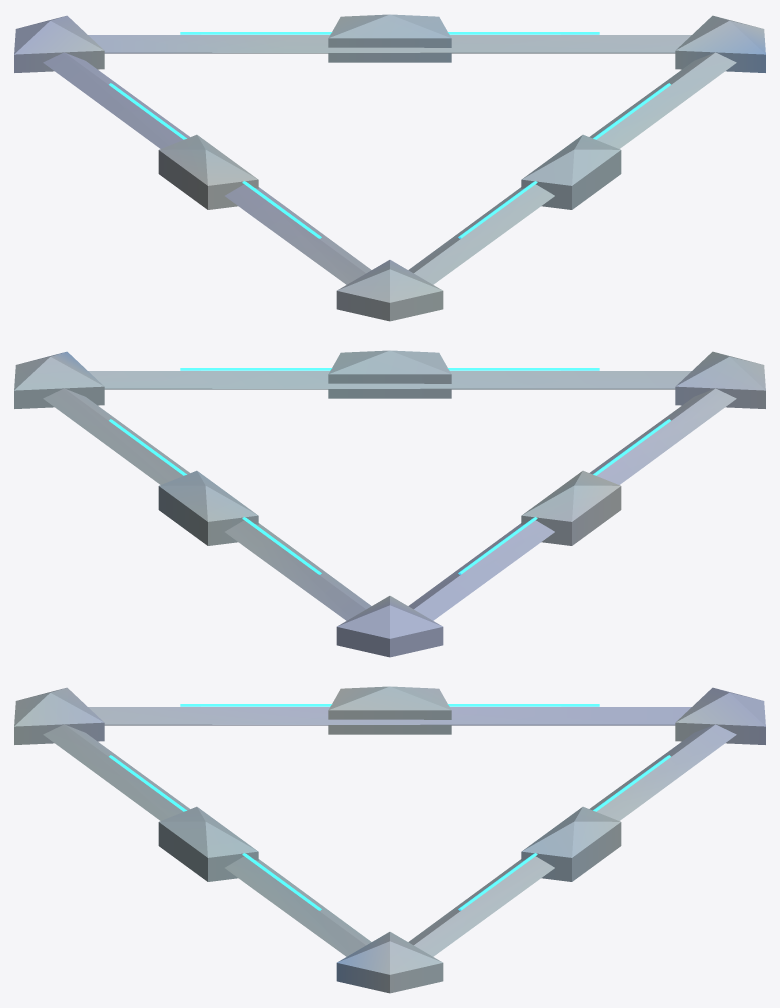
The model's file is orbital_ring.glb.
3 renders of one model, top to bottom at view 1: azimuth 30°, elevation 25°; view 2: azimuth 150°, elevation 25°; view 3: azimuth 270°, elevation 25°, orthographic.
Visible parts, largest first — view 1: 01_orbital_ring__structure; view 2: 01_orbital_ring__structure; view 3: 01_orbital_ring__structure.
Boxes of the visible parts, x1=… form: 01_orbital_ring__structure: x1=14, y1=14, x2=765, y2=321; 01_orbital_ring__structure: x1=14, y1=350, x2=765, y2=657; 01_orbital_ring__structure: x1=14, y1=686, x2=765, y2=993.
Size of the model in its own units: 143 by 10.65 by 158.
